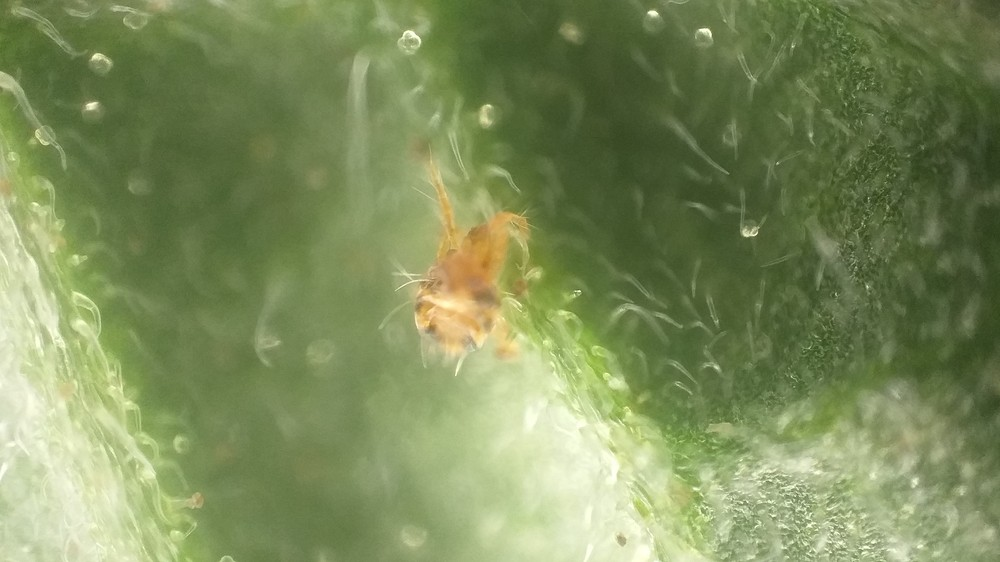Aracnido Rojo: (367, 147, 548, 387)
